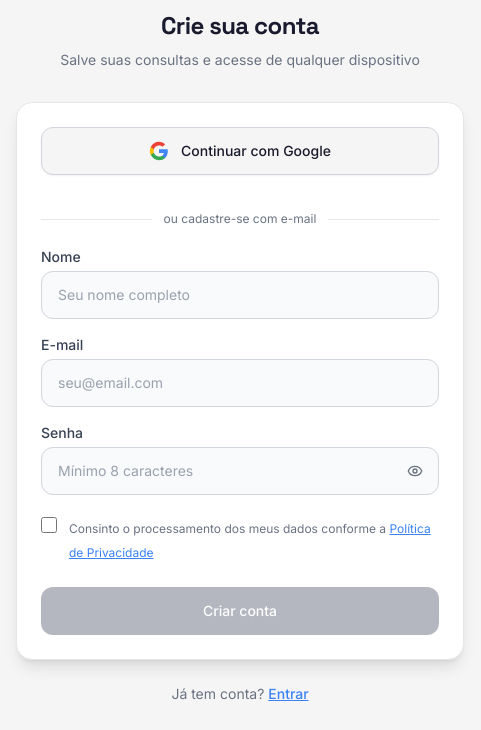
Test case: Registration Page › Form Validation (AC #6) › shows error when name is empty on submit
Note: Check consent so the submit button is enabled
Click the checkbox labelled "Consinto": coordinates (49, 525) [41, 517, 57, 533]
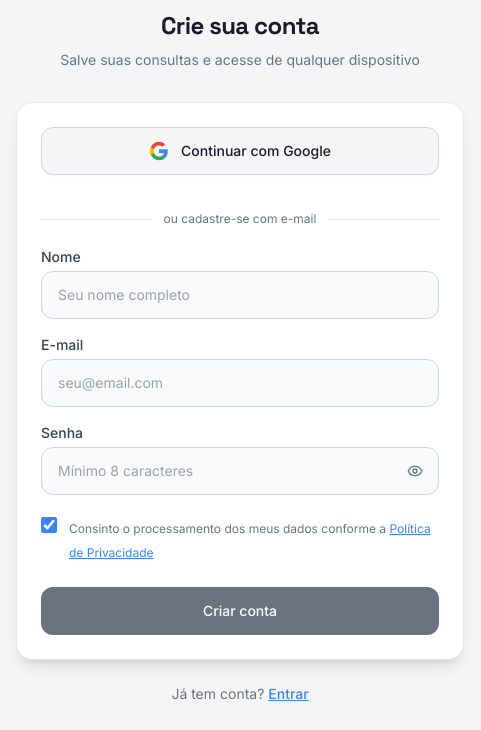
Click the button "Criar conta": coordinates (240, 611) [41, 587, 439, 635]
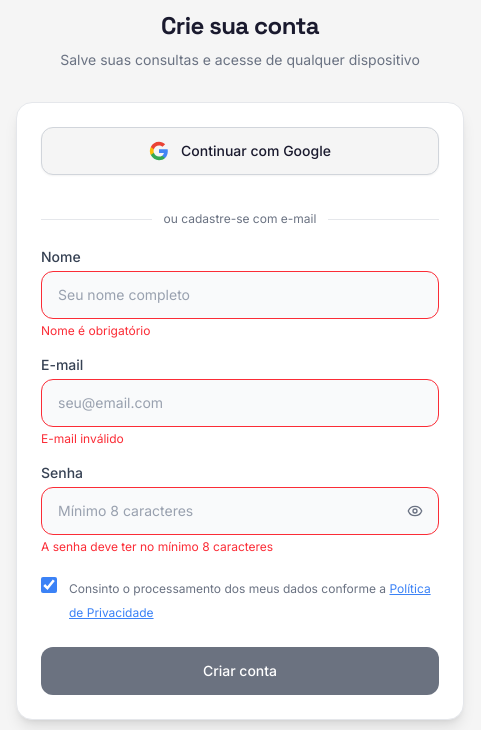
Check: the text "Nome é obrigatório" is shown, box [41, 323, 150, 338]
